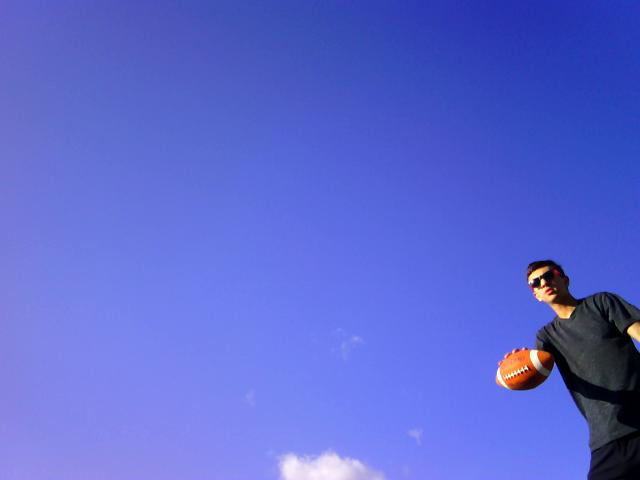football: (488, 343, 557, 397)
